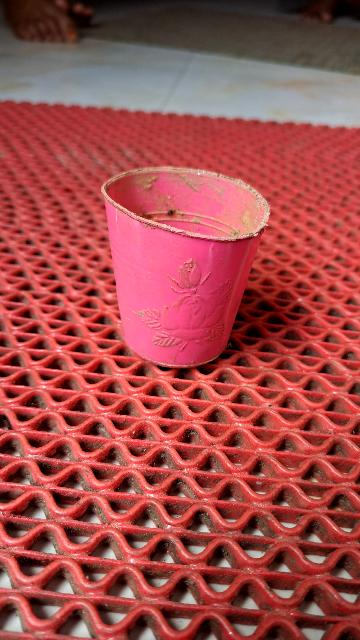hardplastic: (72, 164, 279, 368)
